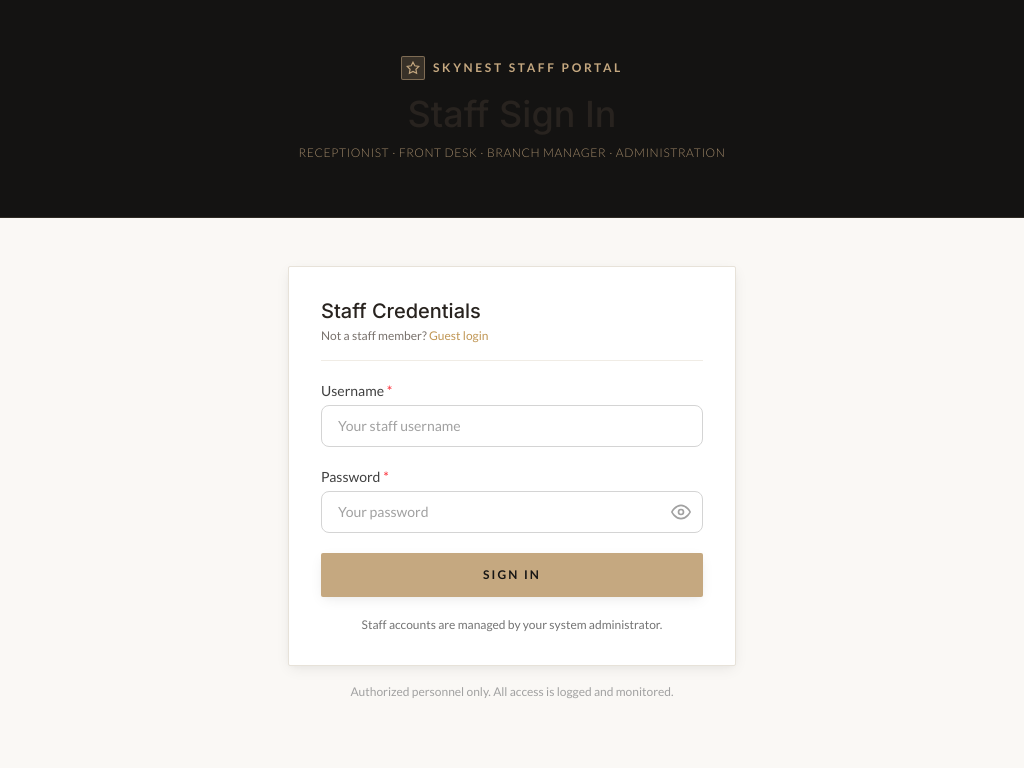
Test: StaffLoginPage - server error handling › surfaces server field-level errors under the correct field
Type "receptionist_01" into the field labelled "Username *" at (512,426), box x1=321 y1=405 x2=703 y2=447
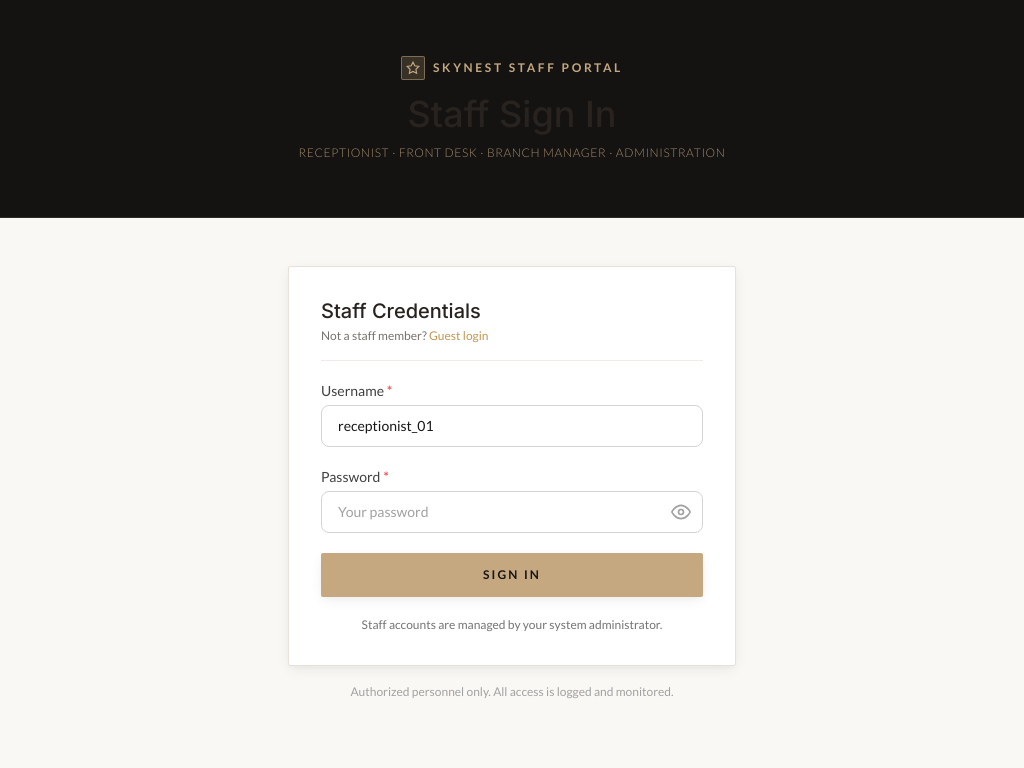
Type "staffpass123" into the password field labelled "Password *" at (512,512), box x1=321 y1=491 x2=703 y2=533
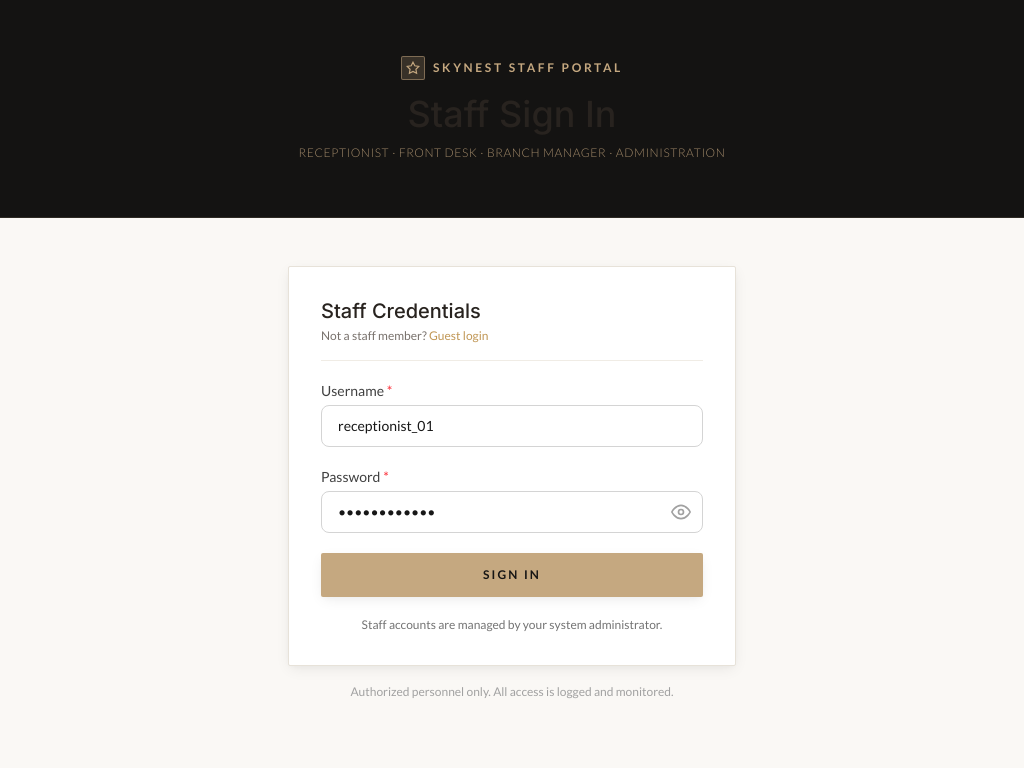
Click the button "Sign In" at (512,575), box x1=321 y1=553 x2=703 y2=597
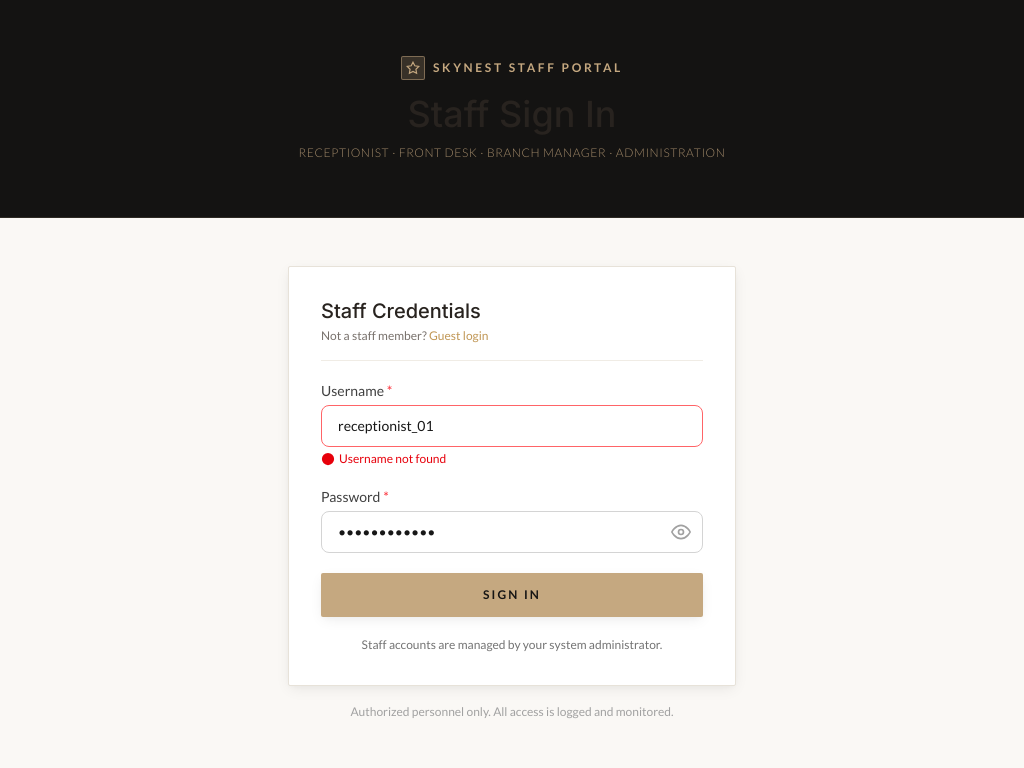
Now the text "Username not found" is shown, box x1=321 y1=451 x2=446 y2=466
